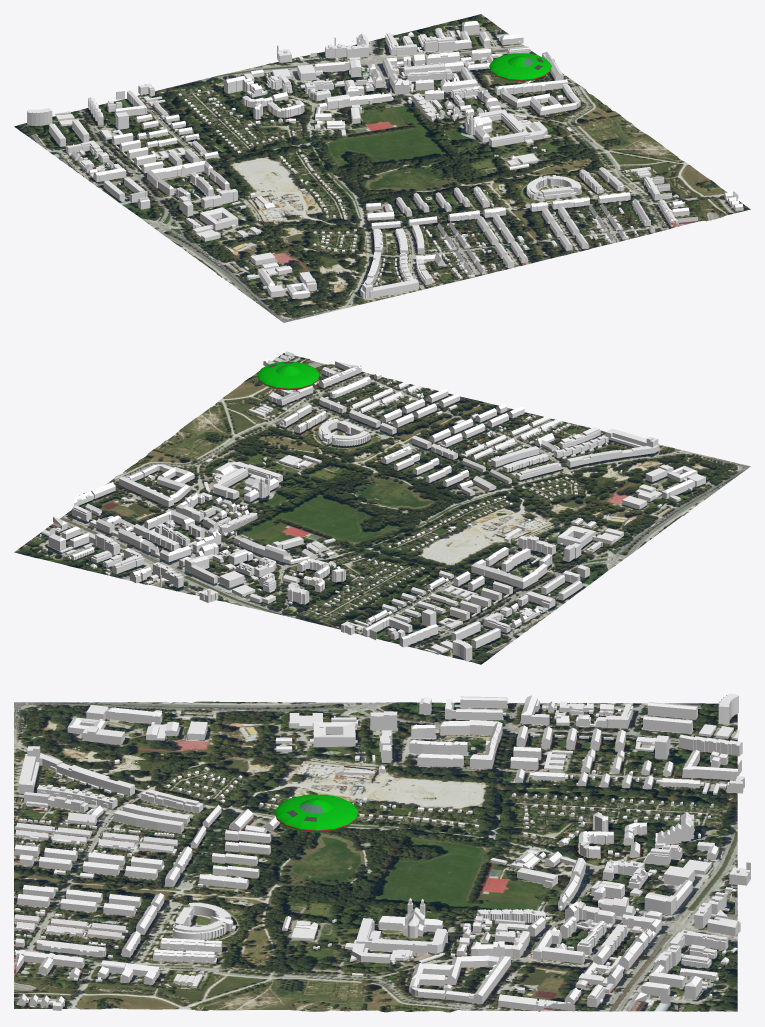
File: asset.glb
3 views of the same model, one above another, from view 1: azimuth 30°, elevation 25°; view 2: azimuth 150°, elevation 25°; view 3: azimuth 270°, elevation 25° (orthographic). The views are drawn at different scales.
Visible parts, largest first — view 1: 2024_Muenchen_DDM_5m, 3D-Stadtmodell_neu, Ufo; view 2: 2024_Muenchen_DDM_5m, 3D-Stadtmodell_neu, Ufo; view 3: 2024_Muenchen_DDM_5m, 3D-Stadtmodell_neu, Ufo.
Boxes of the visible parts, x1,y1,x2,y2 form: 2024_Muenchen_DDM_5m: (14,14,750,322); 3D-Stadtmodell_neu: (27,21,743,298); Ufo: (489,53,551,81); 2024_Muenchen_DDM_5m: (14,353,750,664); 3D-Stadtmodell_neu: (40,351,705,661); Ufo: (257,361,319,390); 2024_Muenchen_DDM_5m: (14,701,737,1012); 3D-Stadtmodell_neu: (14,693,750,1012); Ufo: (275,794,358,832).
Size of the model in its own units: 1001 by 207 by 1014.
7 materials, 2 textured.
